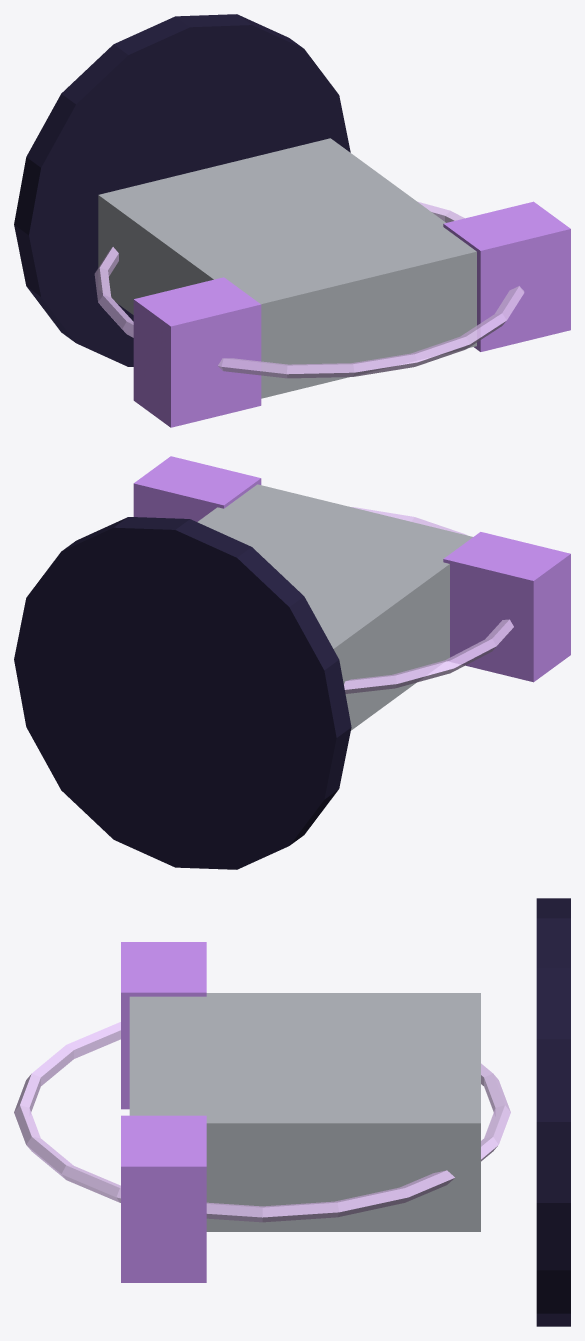
Rendered from 04_high_tier_magic_armor.glb.
3 views of the same model, one above another, from view 1: azimuth 30°, elevation 25°; view 2: azimuth 150°, elevation 25°; view 3: azimuth 270°, elevation 25° (orthographic). The views are drawn at different scales.
Visible parts, largest first — view 1: chest_plate, armor_display_base, pauldron_l, pauldron_r, armor_barrier_ring; view 2: armor_display_base, chest_plate, pauldron_l, pauldron_r, armor_barrier_ring; view 3: chest_plate, armor_display_base, pauldron_r, armor_barrier_ring, pauldron_l.
Part boxes in pixels (x1,y1,x2,y2): chest_plate: (98,138,476,398); armor_display_base: (14,14,350,366); pauldron_l: (133,277,261,427); pauldron_r: (443,201,570,351); armor_barrier_ring: (94,202,524,378); armor_display_base: (14,517,351,869); chest_plate: (197,484,472,730); pauldron_l: (443,532,570,682); pauldron_r: (133,456,261,521); armor_barrier_ring: (344,507,513,693); chest_plate: (129,993,480,1231); armor_display_base: (536,898,570,1326); pauldron_r: (121,1115,206,1282); armor_barrier_ring: (14,1022,510,1222); pauldron_l: (121,942,206,1109).
Size of the model in its own units: 1.24 by 1 by 1.3.
